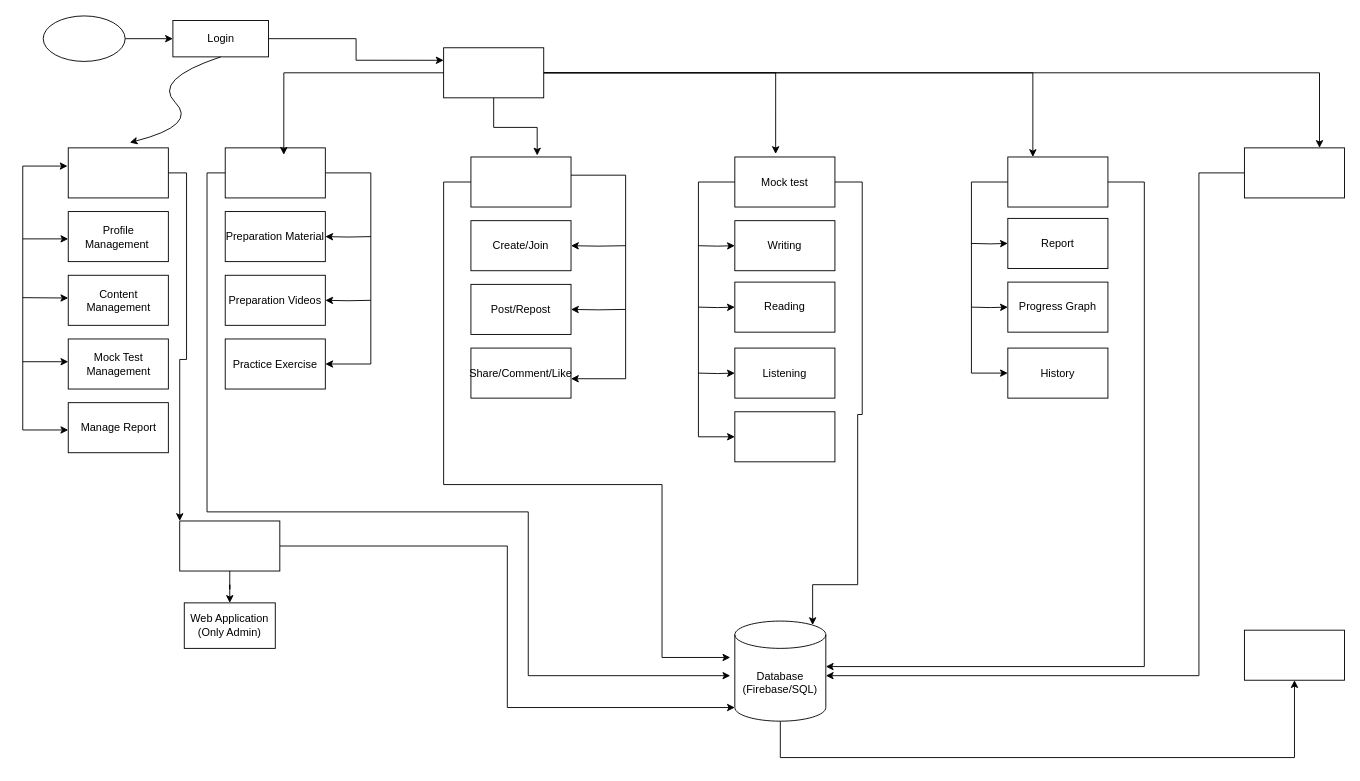
Image size: 1360x781. Some labels were removed from this diagram. Here are the shapes that lost their labels. From the top down, the centre of each, then its label:
At point (83, 38): "Sign Up".
At point (493, 72): "User".
At point (117, 172): "Admin Panel".
At point (274, 172): "Preparation & Practice".
At point (520, 181): "Community".
At point (1057, 181): "Evaluation".
At point (1294, 172): "feedback".
At point (784, 436): "Speaking".
At point (229, 545): "Django (Backend)".
At point (1294, 654): "Android Application".
